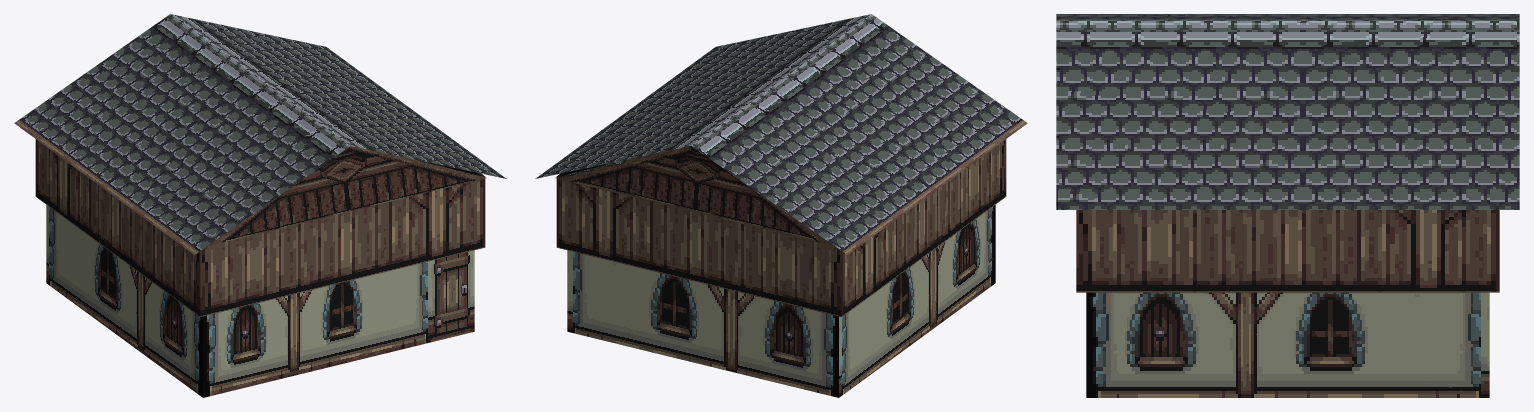
The model's file is hovel.glb.
The picture shows the model from 3 angles, left to right: view 1: azimuth 30°, elevation 25°; view 2: azimuth 150°, elevation 25°; view 3: azimuth 270°, elevation 25°; orthographic projection. The views are drawn at different scales.
Parts seen in each view (by area): view 1: Hovel_Roof_Left, Hovel_GroundFloor, Hovel_UpperFloor, Hovel_Roof_Right, Hovel_Gable_Front; view 2: Hovel_Roof_Left, Hovel_GroundFloor, Hovel_UpperFloor, Hovel_Roof_Right, Hovel_Gable_Back; view 3: Hovel_Roof_Right, Hovel_GroundFloor, Hovel_UpperFloor, Hovel_Roof_Left.
Boxes of the visible parts, x1=… form: Hovel_Roof_Left: x1=14, y1=14, x2=349, y2=254; Hovel_GroundFloor: x1=46, y1=205, x2=474, y2=397; Hovel_UpperFloor: x1=35, y1=139, x2=485, y2=317; Hovel_Roof_Right: x1=171, y1=14, x2=506, y2=178; Hovel_Gable_Front: x1=207, y1=146, x2=486, y2=246; Hovel_Roof_Left: x1=692, y1=14, x2=1027, y2=254; Hovel_GroundFloor: x1=567, y1=205, x2=995, y2=397; Hovel_UpperFloor: x1=556, y1=139, x2=1006, y2=317; Hovel_Roof_Right: x1=535, y1=14, x2=870, y2=178; Hovel_Gable_Back: x1=555, y1=146, x2=834, y2=246; Hovel_Roof_Right: x1=1056, y1=20, x2=1519, y2=209; Hovel_GroundFloor: x1=1086, y1=292, x2=1489, y2=397; Hovel_UpperFloor: x1=1076, y1=210, x2=1499, y2=292; Hovel_Roof_Left: x1=1056, y1=14, x2=1519, y2=20.
Size of what is drawn, in the model's own units: 4.6 by 3.2 by 4.6.
Materials: 1 (1 with a texture image).
